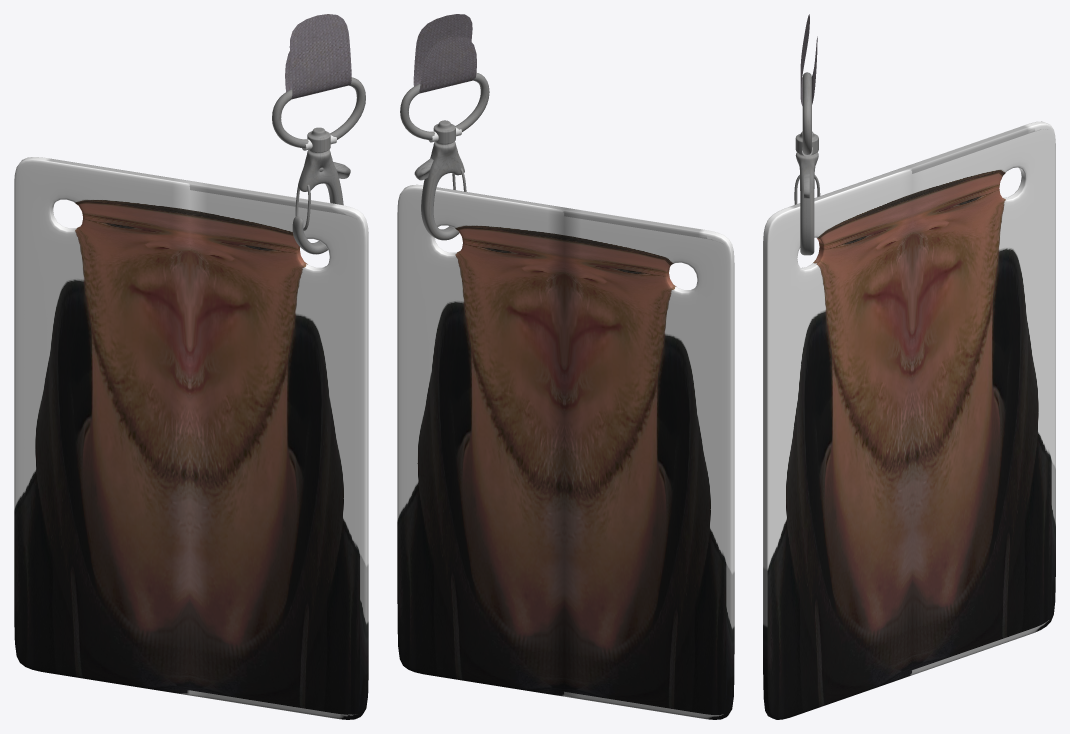
File: tag.glb
3 renders of one model, left to right at view 1: azimuth 30°, elevation 25°; view 2: azimuth 210°, elevation 25°; view 3: azimuth 270°, elevation 25°, orthographic. The views are drawn at different scales.
Visible parts, largest first — view 1: Badge, Ribbon, Crabiner, Ring; view 2: Badge, Ribbon, Crabiner, Ring; view 3: Badge, Crabiner, Ring, Ribbon.
Part boxes in pixels (x1,y1,x2,y2): Badge: [14, 157, 368, 719]; Ribbon: [285, 14, 351, 99]; Crabiner: [292, 127, 343, 254]; Ring: [272, 77, 365, 148]; Badge: [397, 184, 734, 719]; Ribbon: [413, 14, 476, 93]; Crabiner: [421, 120, 464, 240]; Ring: [400, 72, 489, 140]; Badge: [763, 121, 1055, 719]; Crabiner: [795, 131, 818, 255]; Ring: [802, 72, 811, 154]; Ribbon: [800, 14, 817, 105].
Size of the model in its own units: 0.4561 by 1.33 by 0.5112.
Materials: 4 (4 with a texture image).
